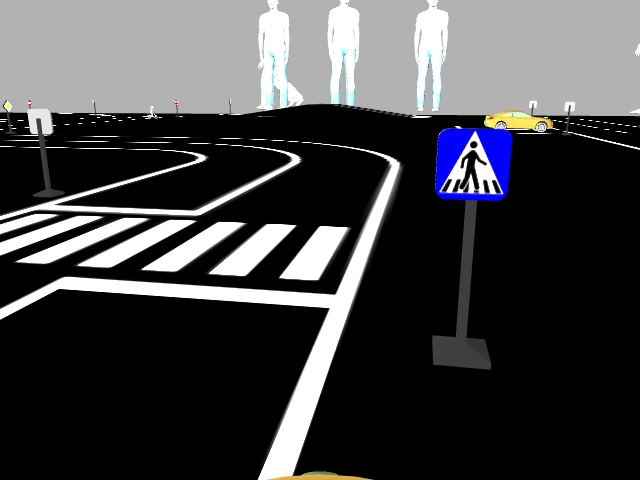Crosswalk: (434, 127, 508, 199)
